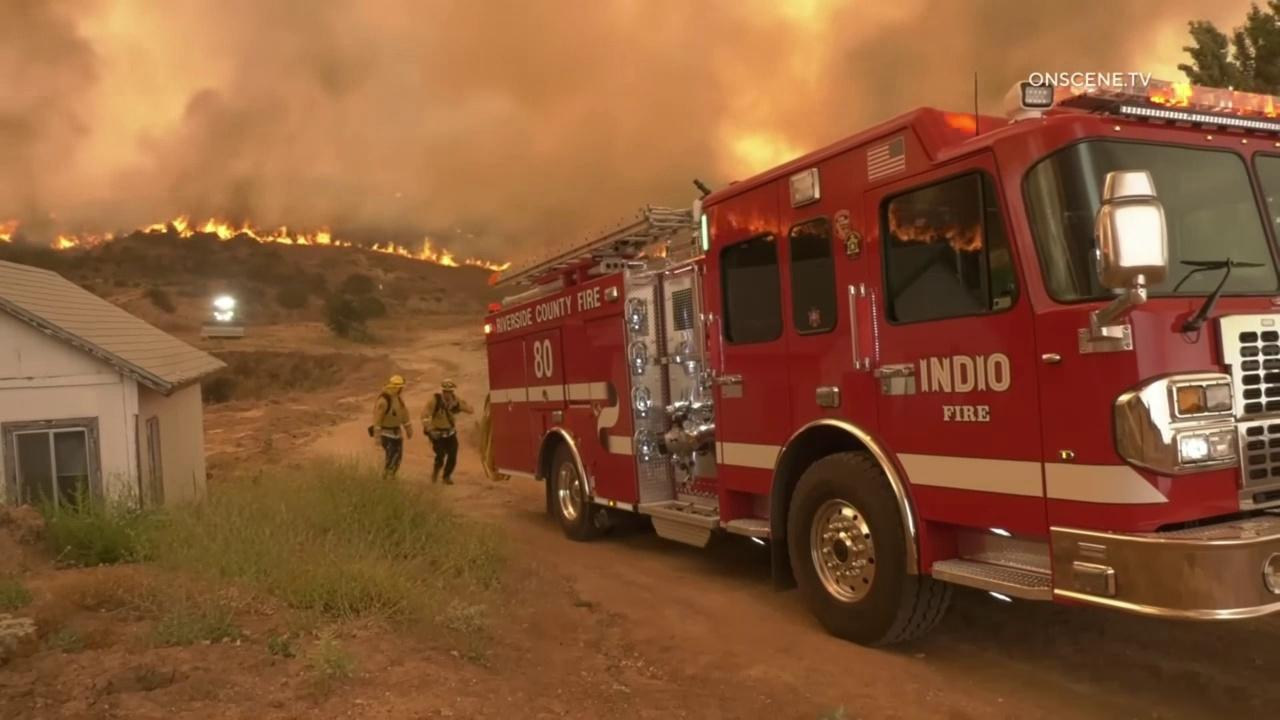fire: (143, 214, 332, 245), (370, 235, 460, 268), (49, 230, 114, 251), (465, 255, 512, 272), (0, 218, 21, 243), (343, 240, 352, 248), (333, 239, 341, 247)
smoke: (0, 0, 1274, 262)
